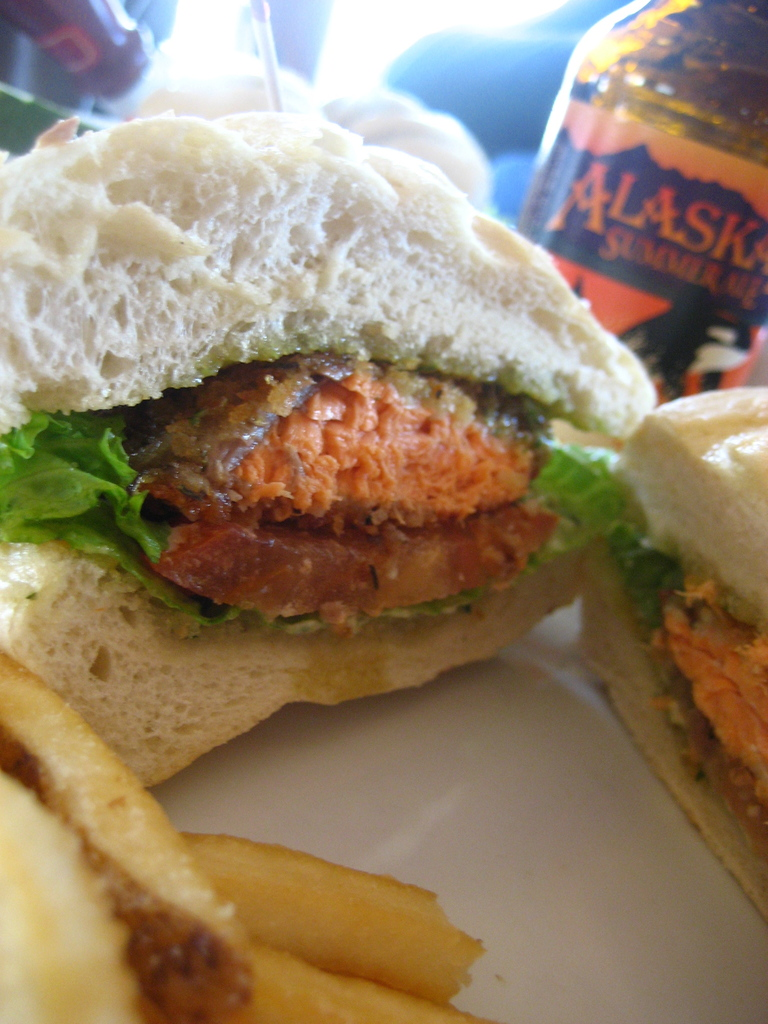Hamburger: (0, 112, 656, 784)
